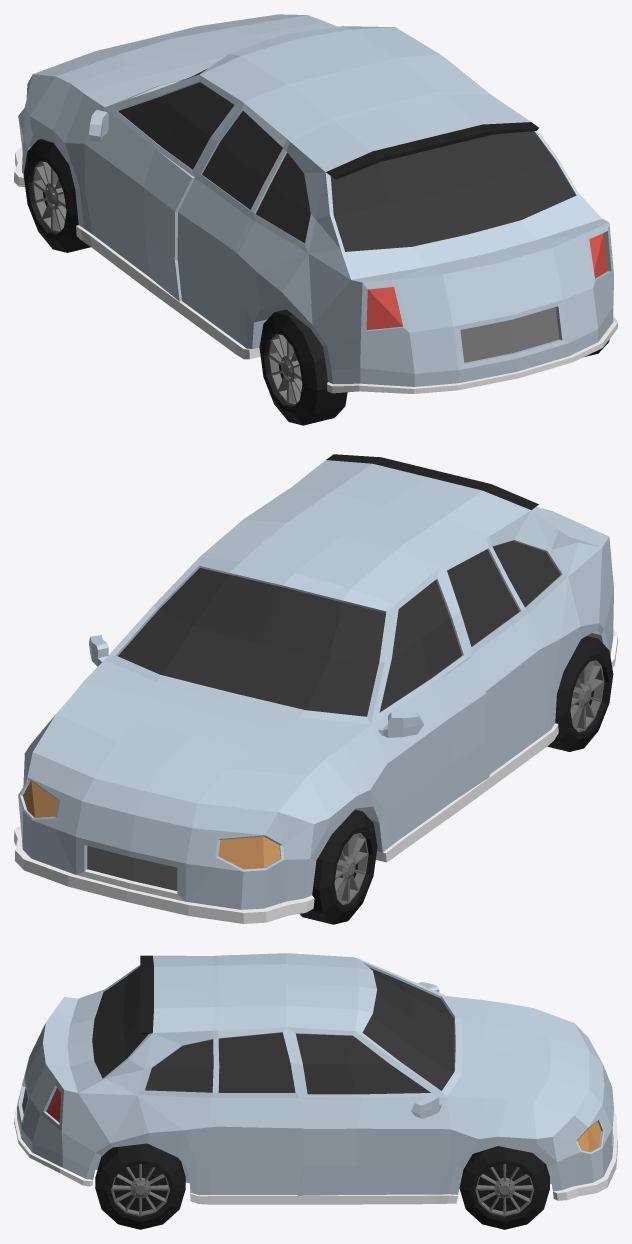
File: normalcar2.glb
3 views of the same model, one above another, from view 1: azimuth 30°, elevation 25°; view 2: azimuth 150°, elevation 25°; view 3: azimuth 270°, elevation 25° (orthographic). The views are drawn at different scales.
Parts seen in each view (by area): view 1: NormalCar2, NormalCar2_BackWheels, NormalCar2_FrontLeftWheel; view 2: NormalCar2, NormalCar2_FrontLeftWheel, NormalCar2_BackWheels; view 3: NormalCar2, NormalCar2_BackWheels, NormalCar2_FrontRightWheel.
Part boxes in pixels (bbox=[...]): NormalCar2: bbox=[14, 14, 617, 393]; NormalCar2_BackWheels: bbox=[259, 309, 609, 425]; NormalCar2_FrontLeftWheel: bbox=[23, 139, 90, 252]; NormalCar2: bbox=[14, 454, 617, 923]; NormalCar2_FrontLeftWheel: bbox=[300, 809, 377, 924]; NormalCar2_BackWheels: bbox=[547, 636, 613, 751]; NormalCar2: bbox=[14, 953, 617, 1204]; NormalCar2_BackWheels: bbox=[95, 1143, 185, 1229]; NormalCar2_FrontRightWheel: bbox=[459, 1146, 549, 1229].
Bounding box in the file's own units: 1.64 × 1.15 × 3.31.
